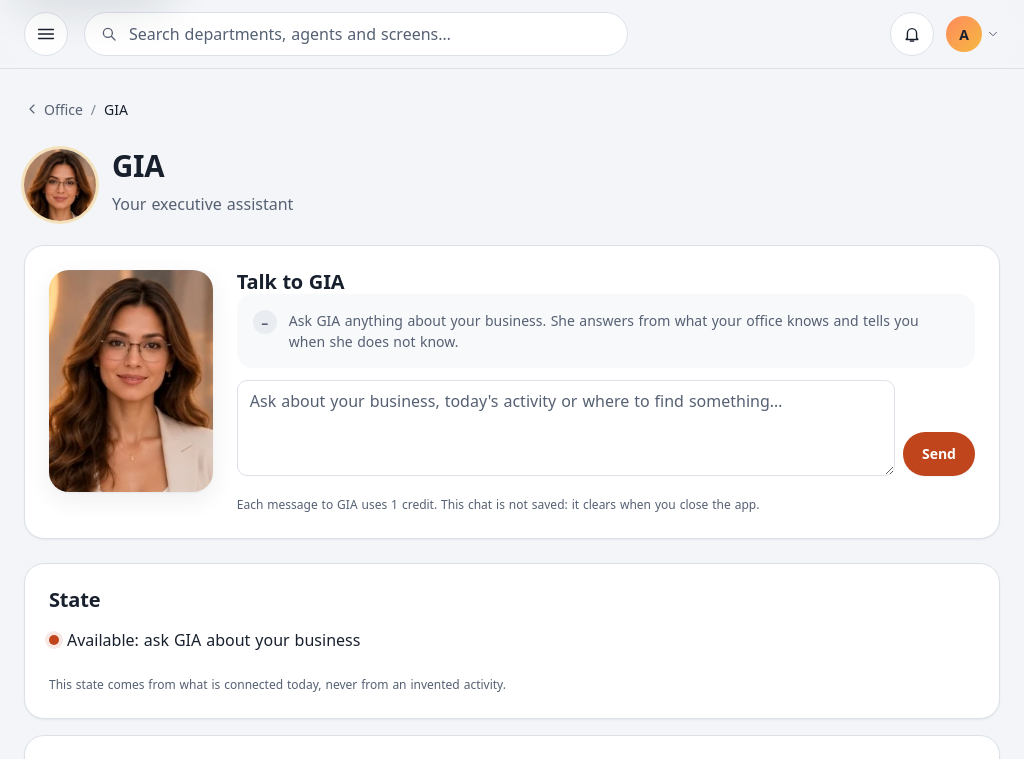
it: GIA's Workplace (ADR-0050) › says a refusal of her role or organization as such, not as "try again"
Replace the text in the text box named "Your message to GIA" with "Hola" at (566, 428), box [237,380,895,476]
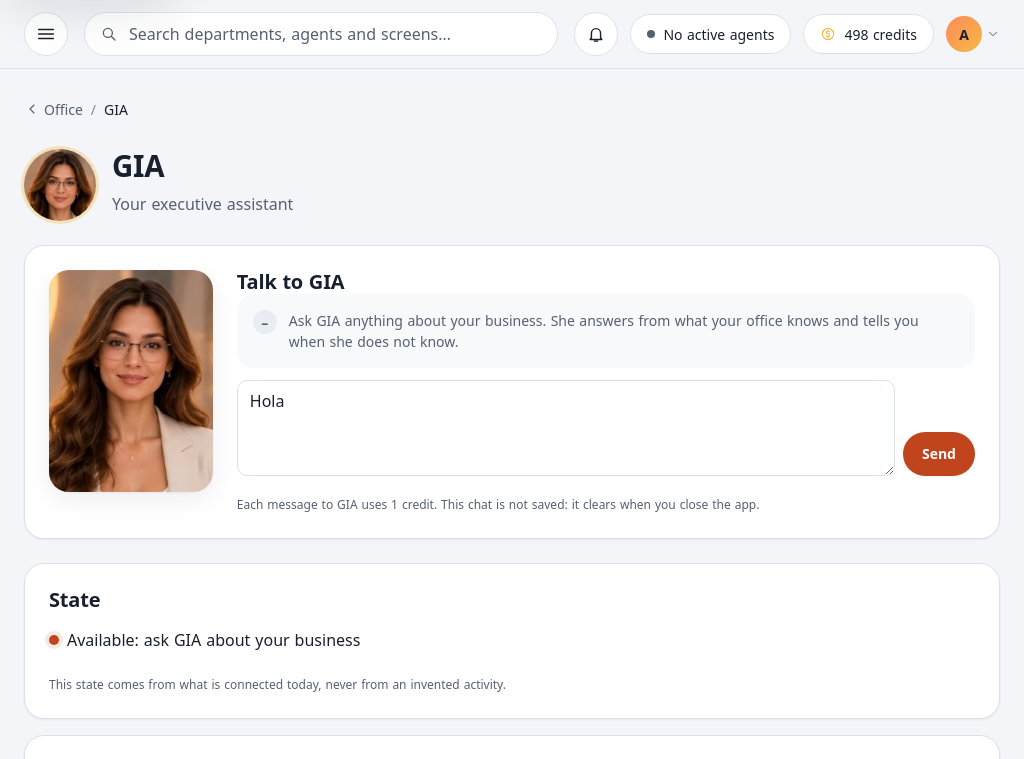
Click the button "Send" at (939, 454), box [903,432,975,476]
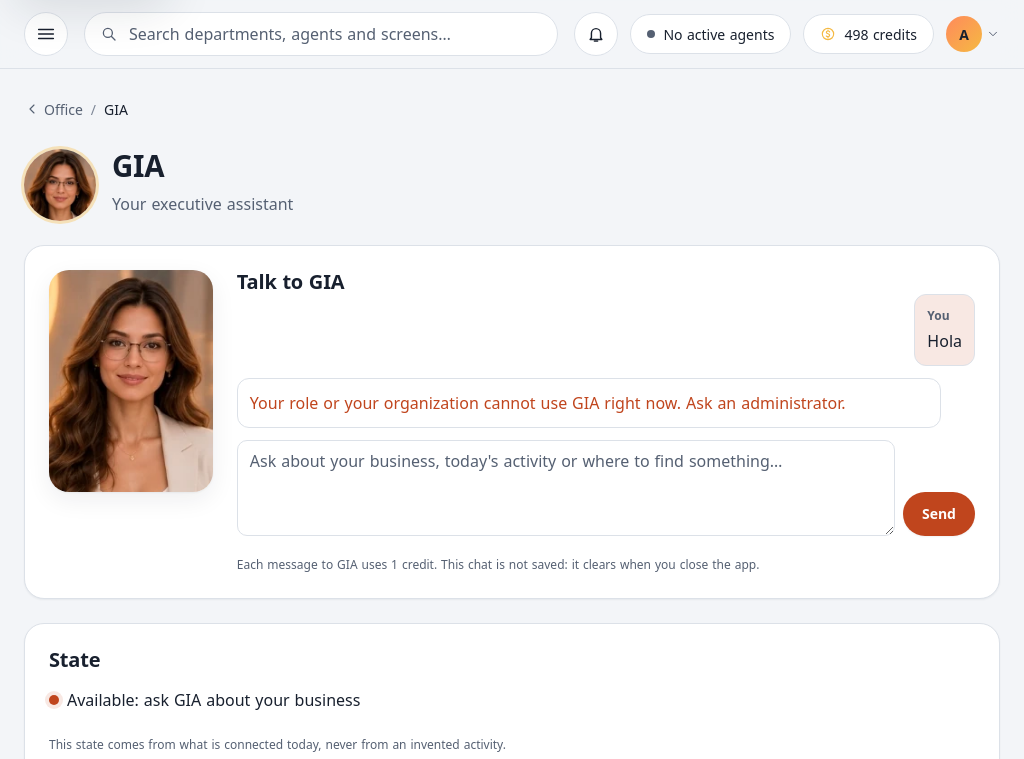
Result: the message shows "Your role or your organization cannot use GIA right now." at [250,392,846,414]
